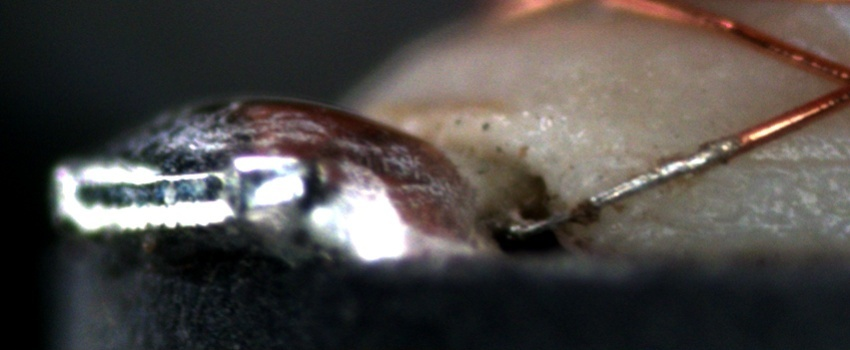CL: (804, 51, 850, 118)
DL: (731, 128, 849, 189)
TS: (505, 135, 746, 234)
TTCW: (510, 113, 787, 235)
